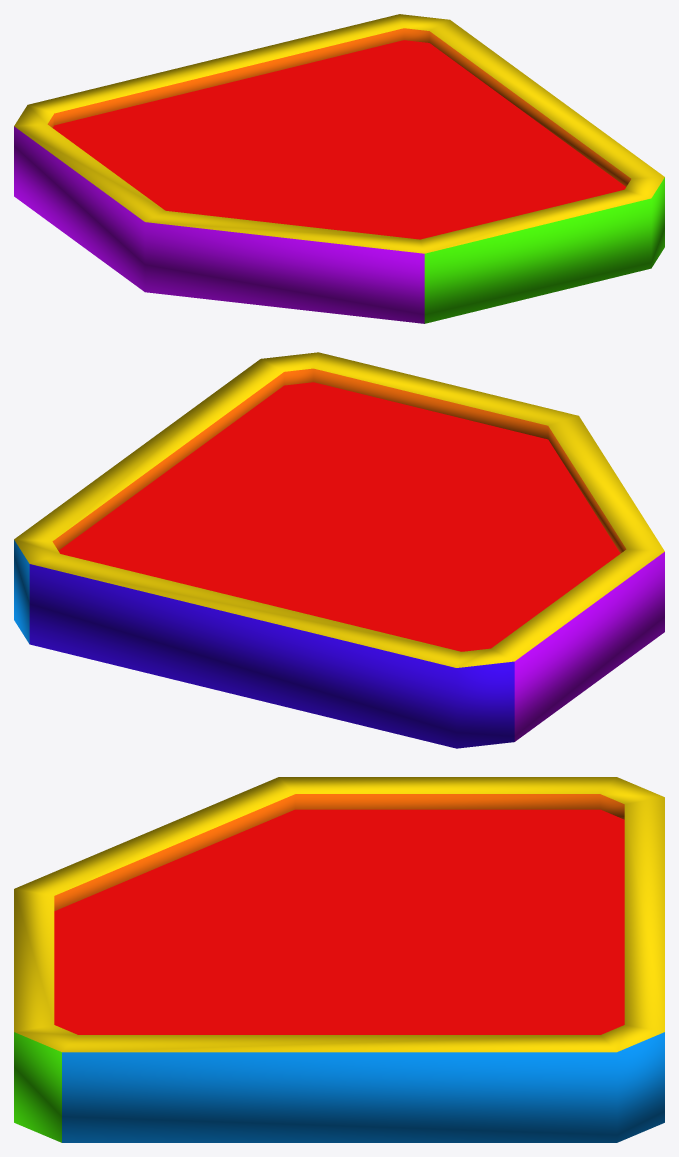
Rendered from platform_polygon1.glb.
3 renders of one model, top to bottom at view 1: azimuth 30°, elevation 25°; view 2: azimuth 150°, elevation 25°; view 3: azimuth 270°, elevation 25°, orthographic. The views are drawn at different scales.
Parts seen in each view (by area): view 1: platform_polygon1; view 2: platform_polygon1; view 3: platform_polygon1.
Part boxes in pixels (bbox=[...]): platform_polygon1: bbox=[14, 14, 664, 323]; platform_polygon1: bbox=[14, 352, 664, 748]; platform_polygon1: bbox=[14, 777, 664, 1142].
Size of the model in its own units: 3.88 by 0.5969 by 3.88.
1 material, 1 textured.
